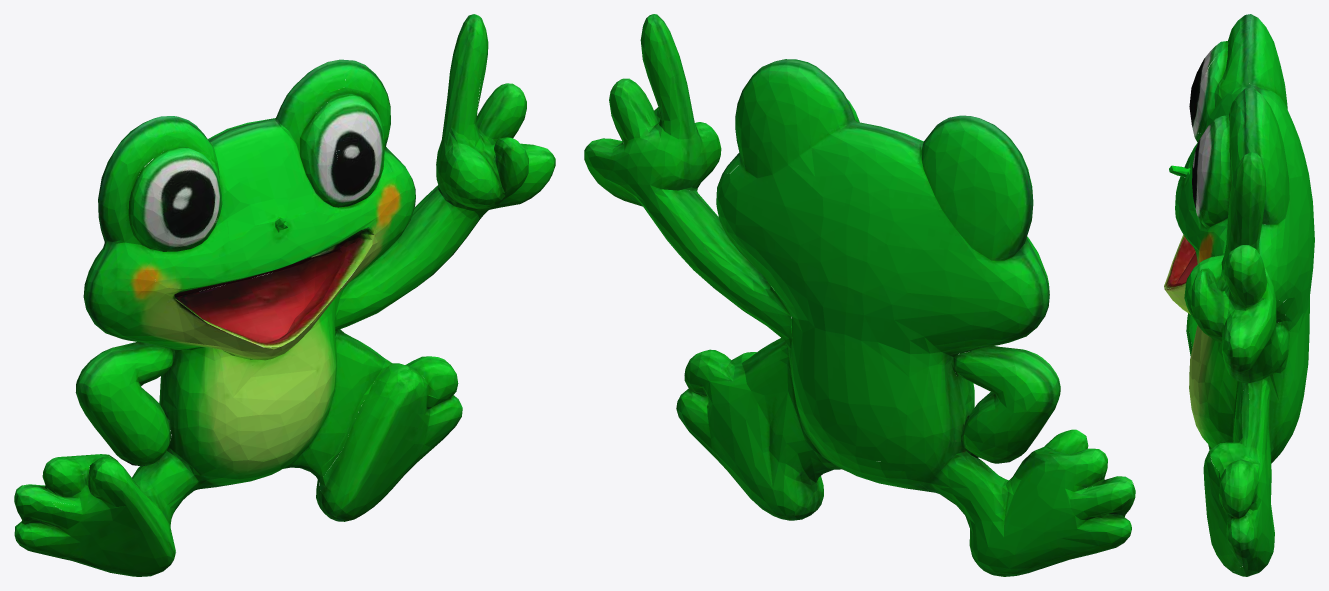
File: char-Pogo.glb
The picture shows the model from 3 angles, left to right: view 1: azimuth 30°, elevation 25°; view 2: azimuth 150°, elevation 25°; view 3: azimuth 270°, elevation 25°; orthographic projection. The views are drawn at different scales.
Visible parts, largest first — view 1: geometry_0.019; view 2: geometry_0.019; view 3: geometry_0.019.
Part boxes in pixels (x1,y1,x2,y2): geometry_0.019: (14,14,555,576); geometry_0.019: (584,14,1135,576); geometry_0.019: (1164,14,1314,576).
Size of the model in its own units: 0.995 by 0.8384 by 0.2325.
1 material, 1 textured.
